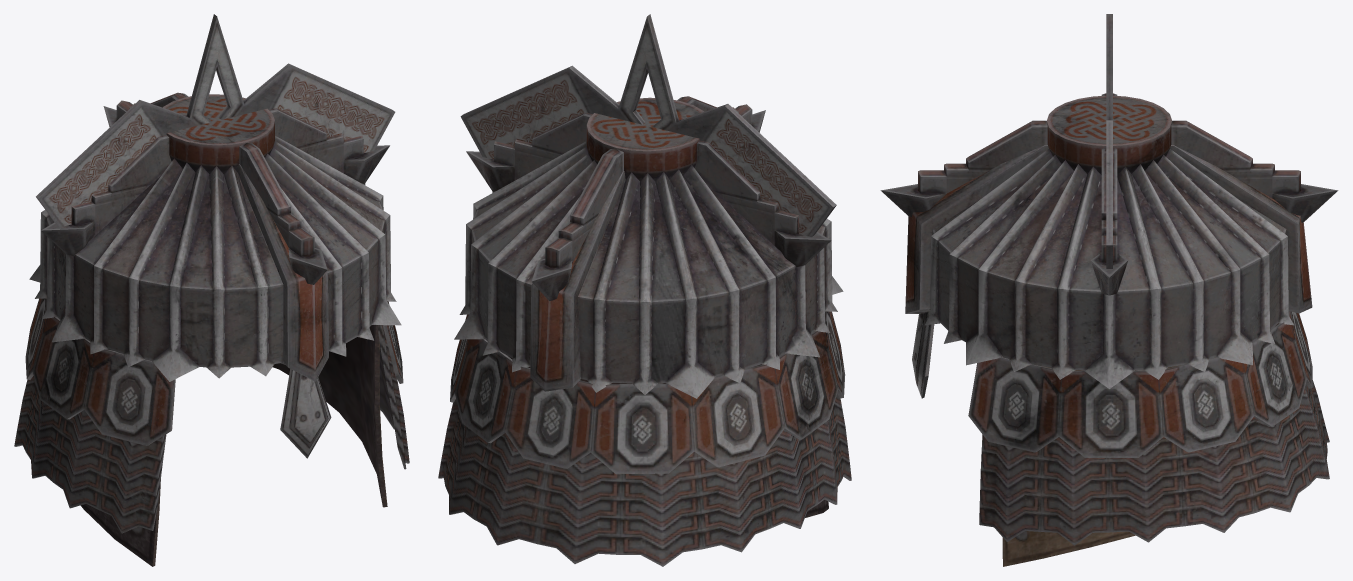
File: sk_dwarf_iron_helmet_elite_b4.fbx
3 views of the same model, side by side, from view 1: azimuth 30°, elevation 25°; view 2: azimuth 150°, elevation 25°; view 3: azimuth 270°, elevation 25° (orthographic). The views are drawn at different scales.
Visible parts, largest first — view 1: sk_dwarf_iron_helmet_elite_b4.1, sk_dwarf_iron_helmet_elite_b4.0; view 2: sk_dwarf_iron_helmet_elite_b4.1, sk_dwarf_iron_helmet_elite_b4.0; view 3: sk_dwarf_iron_helmet_elite_b4.1, sk_dwarf_iron_helmet_elite_b4.0.
Part boxes in pixels (<box>): sk_dwarf_iron_helmet_elite_b4.1: <box>29,14,401,566</box>; sk_dwarf_iron_helmet_elite_b4.0: <box>14,298,409,533</box>; sk_dwarf_iron_helmet_elite_b4.1: <box>454,14,843,517</box>; sk_dwarf_iron_helmet_elite_b4.0: <box>438,311,851,566</box>; sk_dwarf_iron_helmet_elite_b4.1: <box>880,14,1338,566</box>; sk_dwarf_iron_helmet_elite_b4.0: <box>968,311,1329,545</box>.
Bounding box in the file's own units: 0.3245 × 0.3532 × 0.4204.
